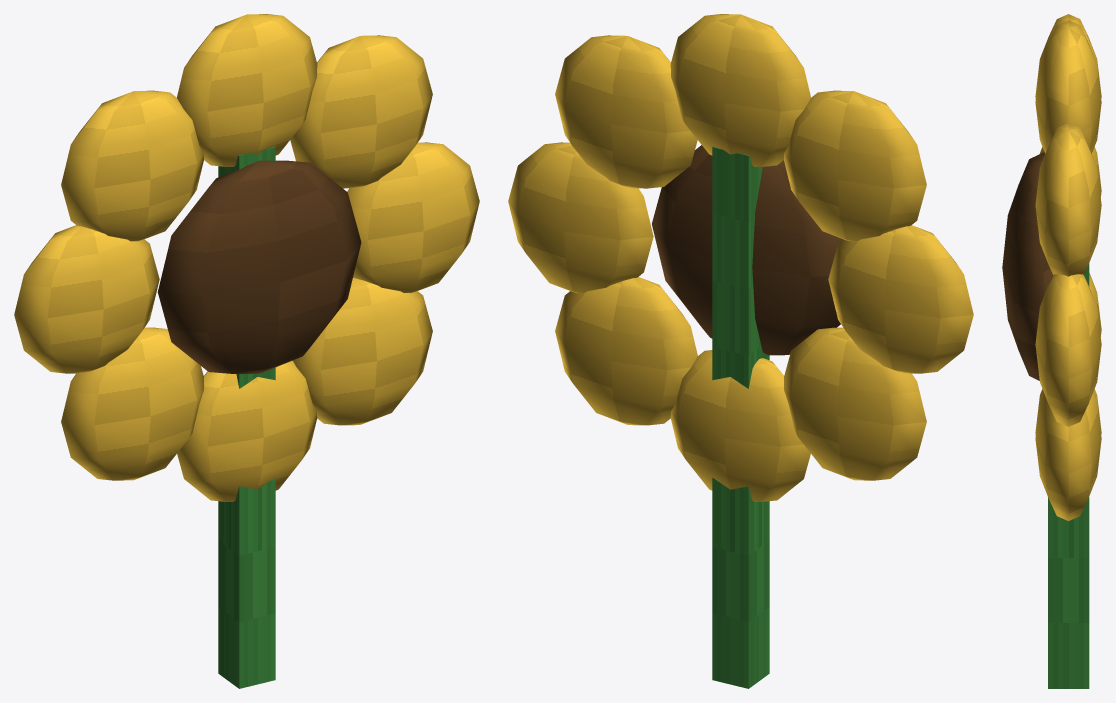
The model's file is girasol.glb.
The picture shows the model from 3 angles, left to right: view 1: azimuth 30°, elevation 25°; view 2: azimuth 150°, elevation 25°; view 3: azimuth 270°, elevation 25°; orthographic projection.
Parts seen in each view (by area): view 1: girasol; view 2: girasol; view 3: girasol.
Part boxes in pixels (x1,y1,x2,y2): girasol: (14, 14, 479, 688); girasol: (508, 14, 973, 688); girasol: (1002, 14, 1101, 688).
Bounding box in the file's own units: 0.64 × 0.87 × 0.12.
3 materials, 3 textured.
